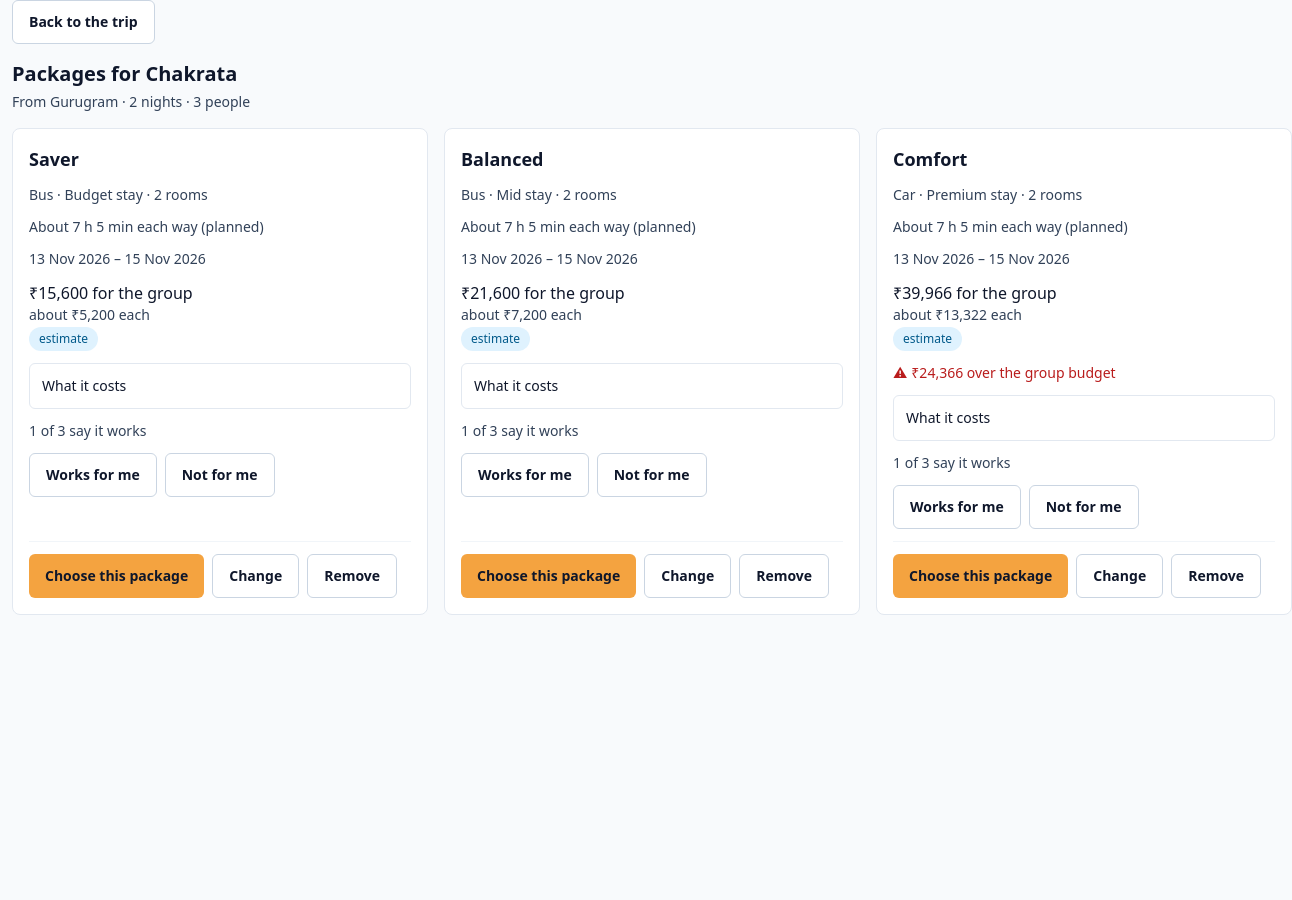
it: PackagesPage › renders the three packages with lines and provenance badges
This screenshot has width=1292, height=900.
Expected: the heading "Packages for Chakrata" is shown, [12,60,237,87]
Expected: the text "From Gurugram · 2 nights · 3 people" is shown, [12,92,250,111]
// Collapsible cost lines with provenance badges.
What coordinates should you click on to do the following:
click the heading "What it costs" below "₹5,200"
I would click on:
 (84, 386)
Its box is [42,376,126,395].
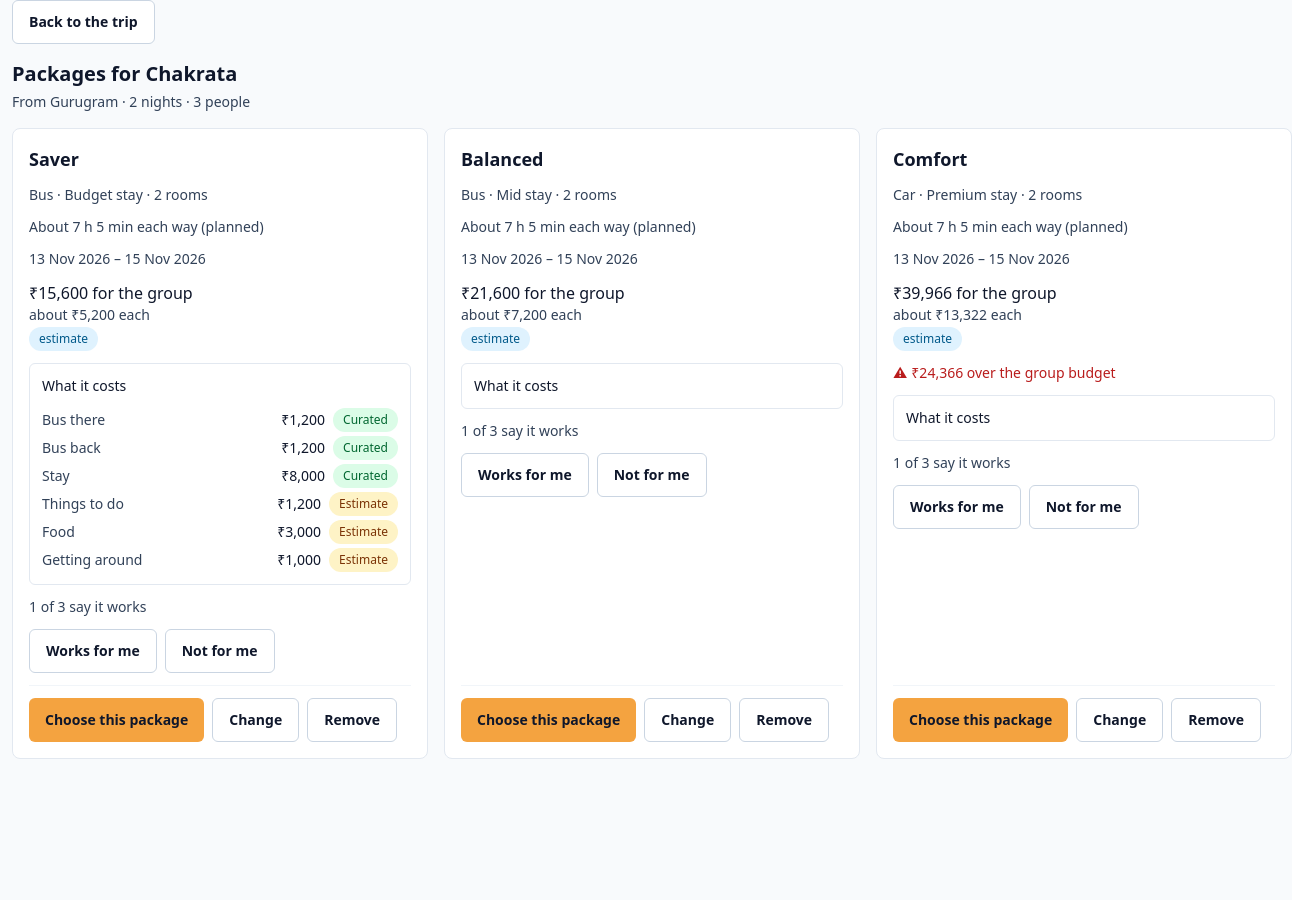
Now the text "Bus there" is shown, box [42,410,105,430]
Now the text "Curated" is shown 3 times, box [333,408,398,432]; [333,436,398,460]; [333,464,398,488]
Now the text "Estimate" is shown 3 times, box [329,492,398,516]; [329,520,398,544]; [329,548,398,572]
